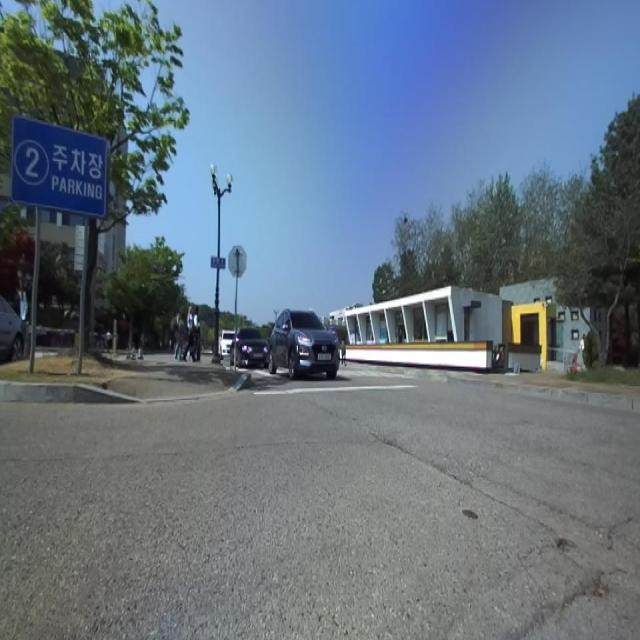sidewalk: (107, 361, 240, 398)
